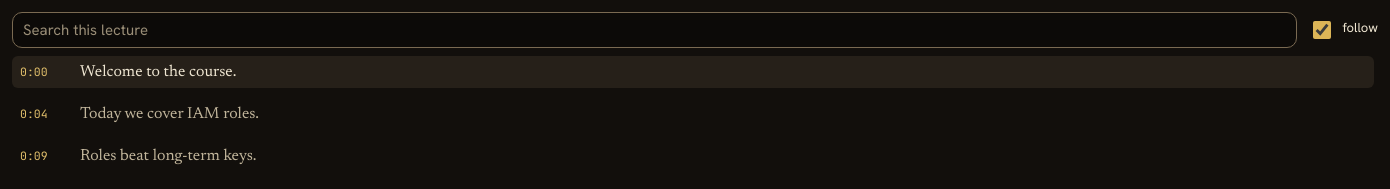
Test case: <TranscriptPanel /> › filters cues by search text
This screenshot has width=1390, height=189.
Type "roles" into the search field named "Search the transcript".
click(655, 30); type("roles")  # box [12, 12, 1298, 48]
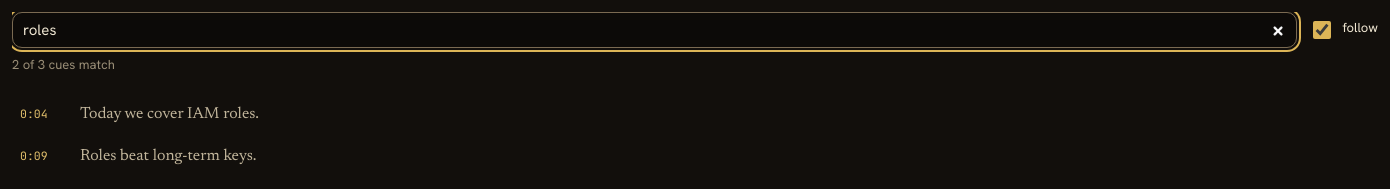
expect the number of list items is 2: met, box [12, 98, 1374, 130]; [12, 140, 1374, 172]
expect the text "2 of 3 cues match" is shown: met, box [12, 56, 115, 73]
